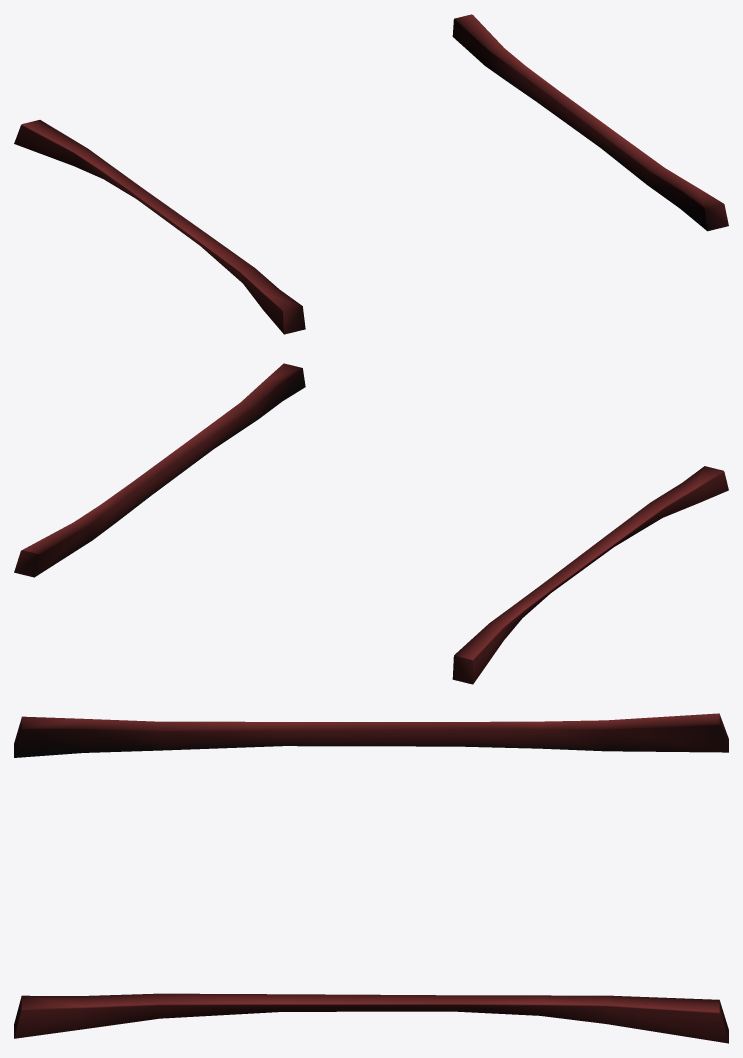
Rendered from Supra_SideSkirt_03_Trim.fbx.
3 renders of one model, top to bottom at view 1: azimuth 30°, elevation 25°; view 2: azimuth 150°, elevation 25°; view 3: azimuth 270°, elevation 25°, orthographic. The views are drawn at different scales.
Parts seen in each view (by area): view 1: Supra_SideSkirt_03_Trim; view 2: Supra_SideSkirt_03_Trim; view 3: Supra_SideSkirt_03_Trim.
Part boxes in pixels (x1,y1,x2,y2): Supra_SideSkirt_03_Trim: (14, 14, 728, 334); Supra_SideSkirt_03_Trim: (14, 363, 728, 684); Supra_SideSkirt_03_Trim: (14, 713, 728, 1043).
Bounding box in the file's own units: 186 × 8.18 × 184.
